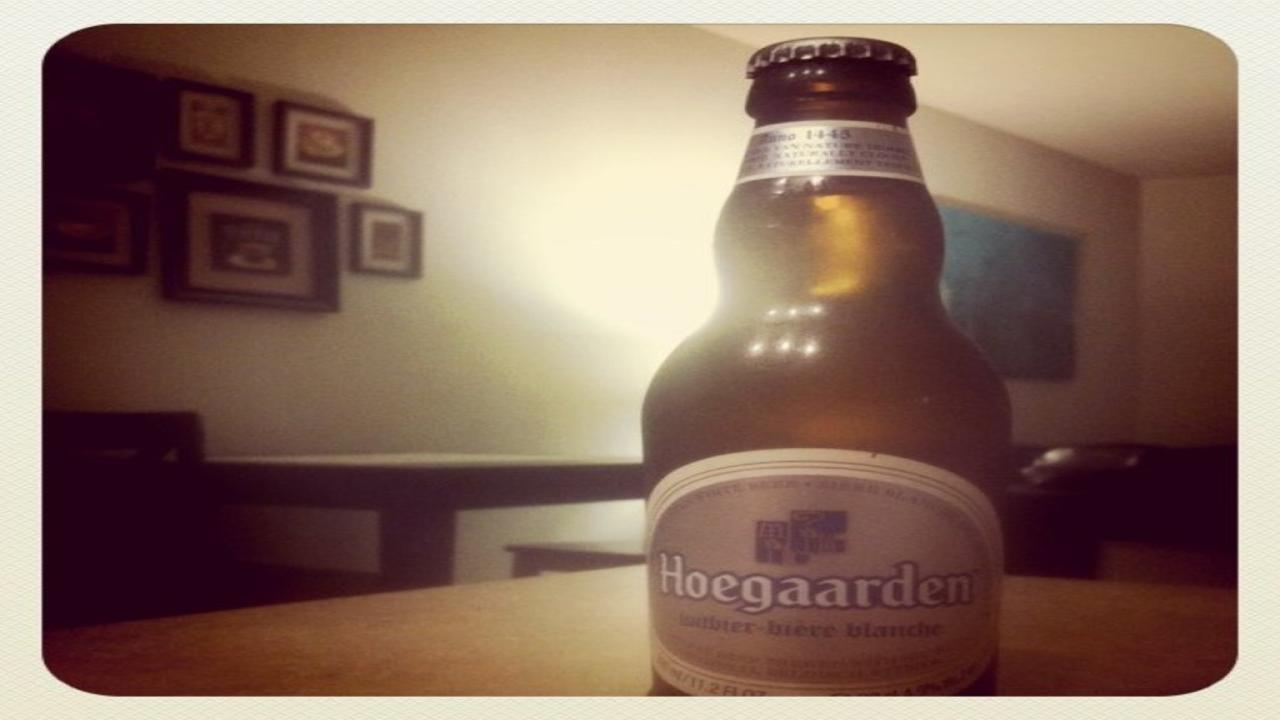bottle_cap: (744, 35, 926, 73)
